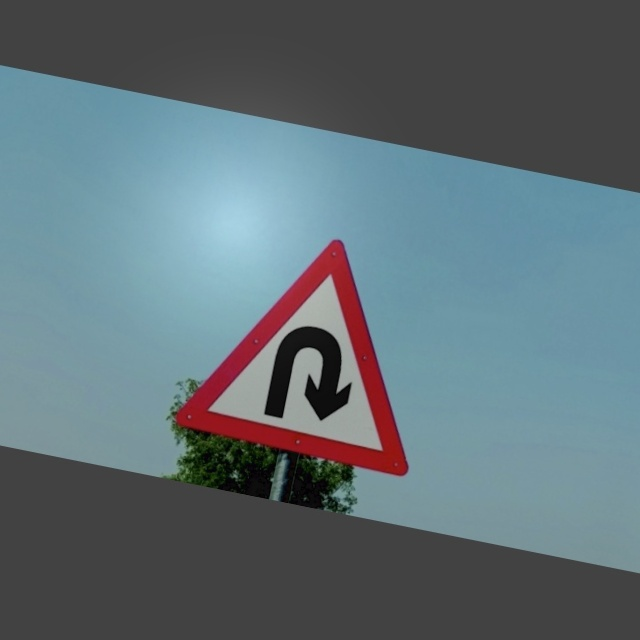Right_Hair_Pin_Bend: (180, 215, 455, 477)
